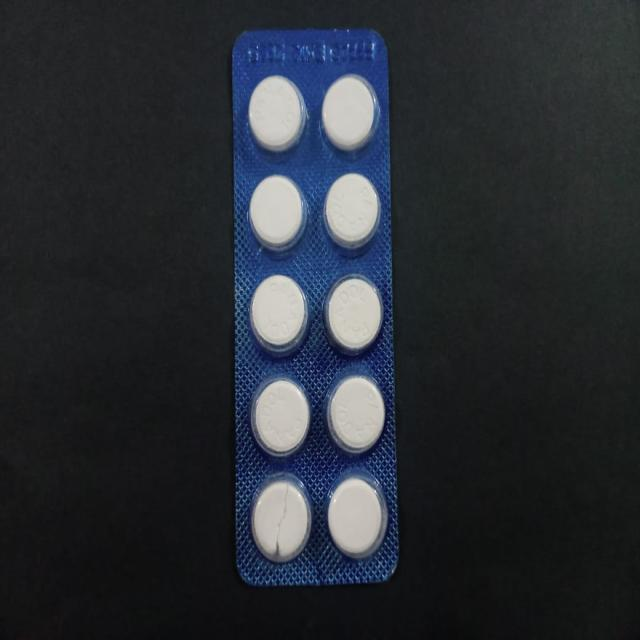defect: (249, 474, 314, 566)
